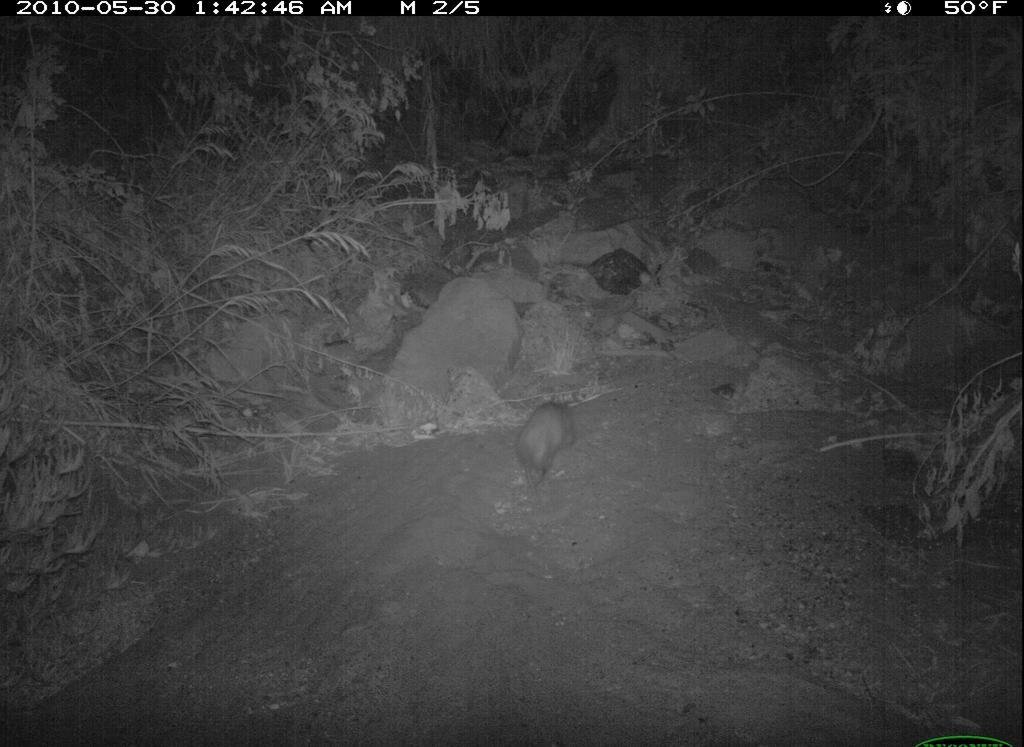opossum: (509, 396, 588, 501)
